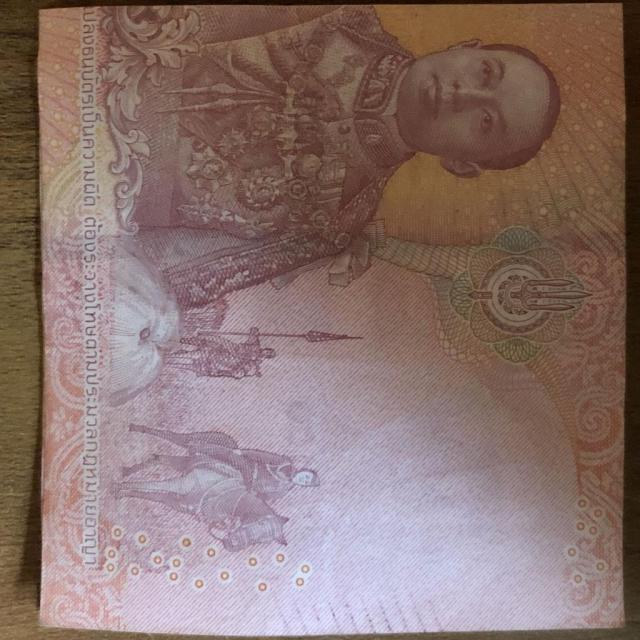THAI100: (38, 4, 625, 635)
